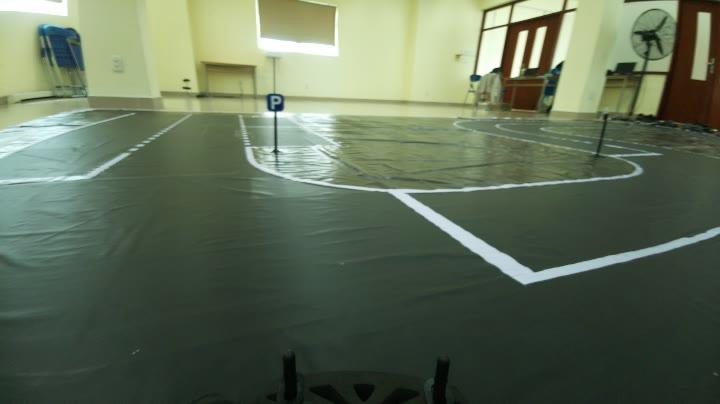parking: (258, 88, 288, 114)
